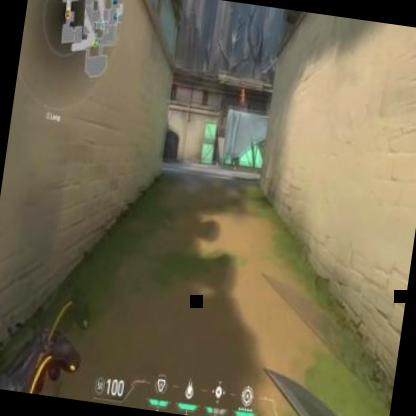enemy: (236, 87, 246, 110)
enemy_head: (241, 88, 245, 94)
